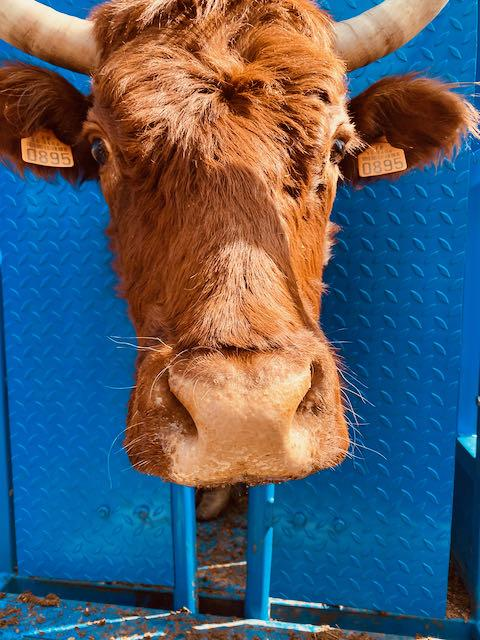muzzles: (119, 337, 360, 494)
